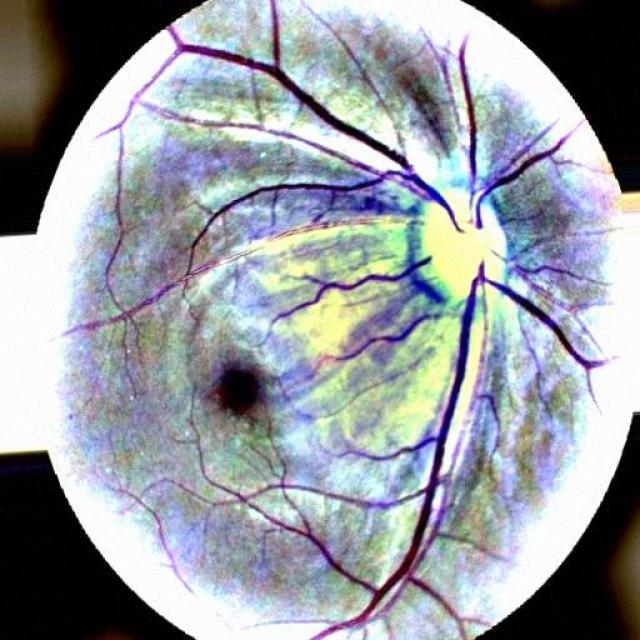Macula: (216, 365, 260, 414)
Nerves: (210, 260, 609, 639), (82, 0, 464, 328), (456, 35, 585, 230), (270, 235, 444, 325), (321, 310, 441, 360), (491, 251, 599, 282)
Optic Disk: (422, 190, 501, 300)
